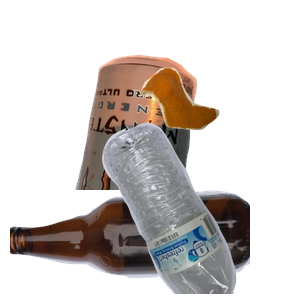glass: (10, 188, 250, 300)
metal: (73, 52, 263, 232)
plastic: (100, 120, 300, 300)
trash: (137, 65, 300, 188)
